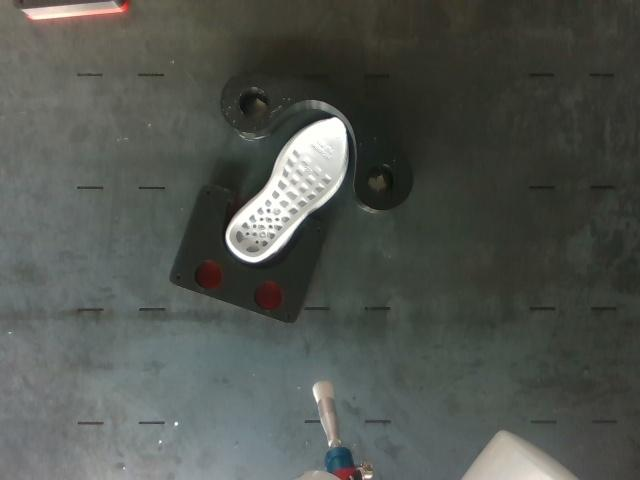shoes: (227, 118, 346, 257)
